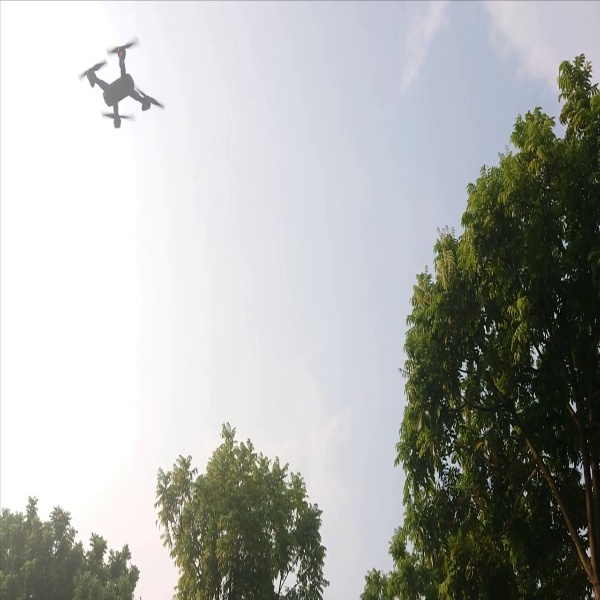drone: (73, 33, 172, 130)
